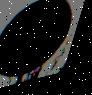Speed Limit -60-: (0, 0, 82, 84)
